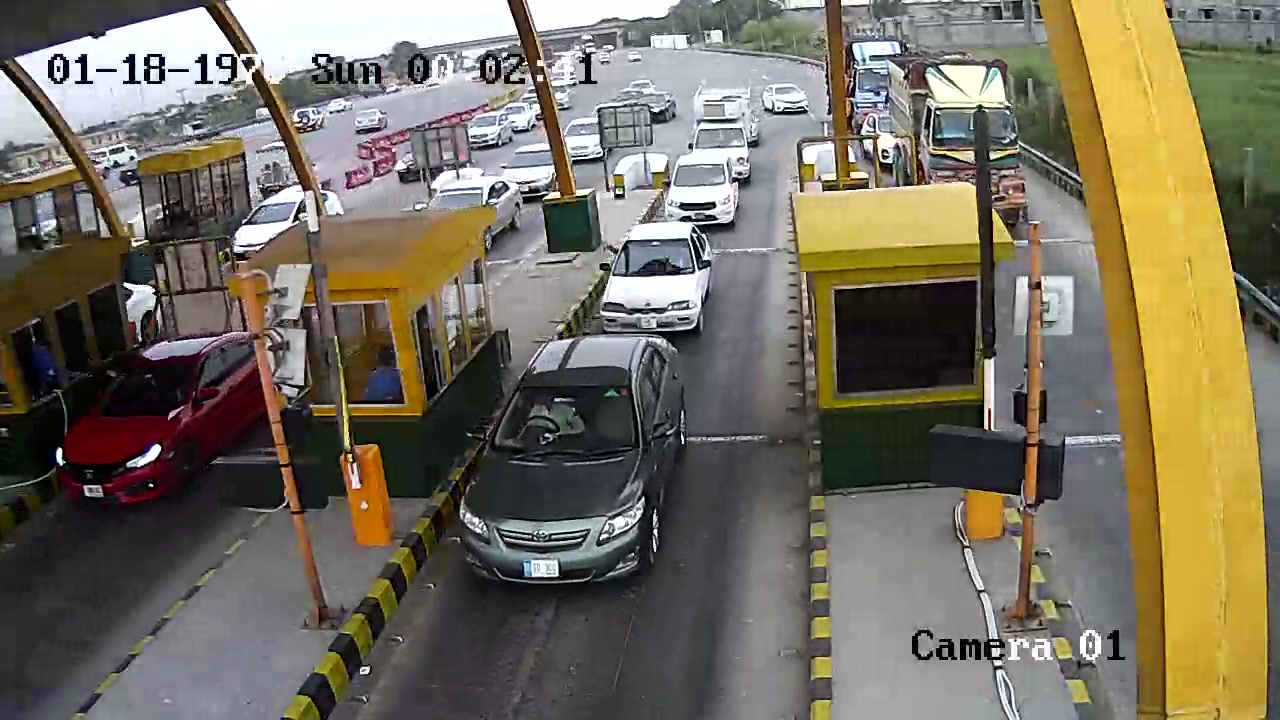F1: (449, 339, 691, 596)
